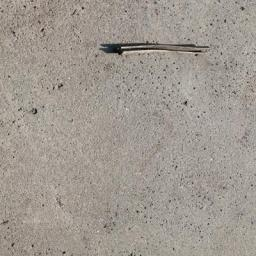FOD: (104, 38, 217, 57)
